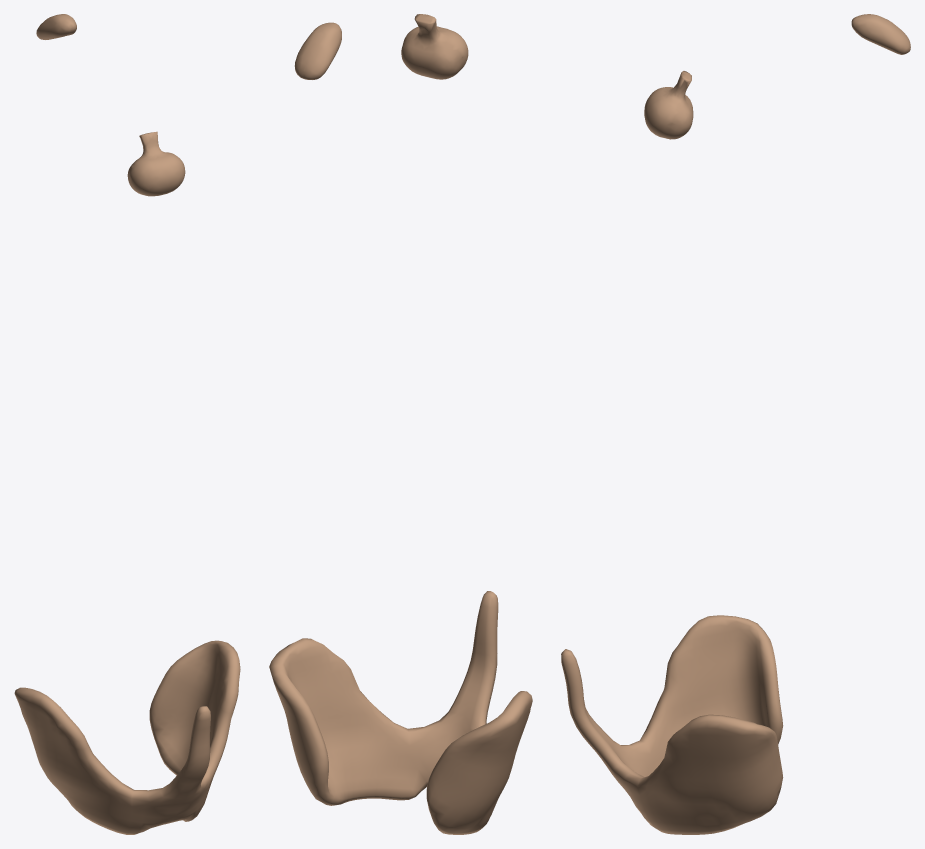
The model's file is detail-endocrine-whole-body.glb.
3 views of the same model, side by side, from view 1: azimuth 30°, elevation 25°; view 2: azimuth 150°, elevation 25°; view 3: azimuth 270°, elevation 25° (orthographic). The views are drawn at different scales.
Visible parts, largest first — view 1: za-b0e9cdd77cc7f9fe, za-50b5781c2c8ba18b, za-3522fc42050da2f3; view 2: za-b0e9cdd77cc7f9fe, za-2b7863a585e22e4c, za-3522fc42050da2f3, za-50b5781c2c8ba18b; view 3: za-b0e9cdd77cc7f9fe, za-50b5781c2c8ba18b, za-3522fc42050da2f3, za-2b7863a585e22e4c.
Boxes of the visible parts, <box> form: za-b0e9cdd77cc7f9fe: <box>14,640,240,834</box>; za-50b5781c2c8ba18b: <box>130,131,185,196</box>; za-3522fc42050da2f3: <box>36,14,76,39</box>; za-b0e9cdd77cc7f9fe: <box>269,591,532,834</box>; za-2b7863a585e22e4c: <box>401,17,463,79</box>; za-3522fc42050da2f3: <box>294,22,341,79</box>; za-50b5781c2c8ba18b: <box>406,14,468,67</box>; za-b0e9cdd77cc7f9fe: <box>561,615,783,834</box>; za-50b5781c2c8ba18b: <box>644,71,687,137</box>; za-3522fc42050da2f3: <box>851,14,910,54</box>; za-2b7863a585e22e4c: <box>663,72,693,139</box>.
Size of the model in its own units: 0.0486 by 0.165 by 0.0655.
